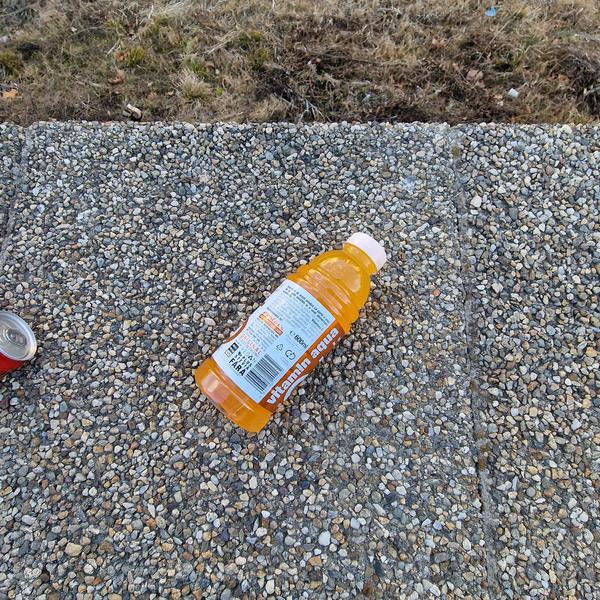can: (0, 305, 38, 372)
plastic_bottle: (186, 202, 409, 441)
